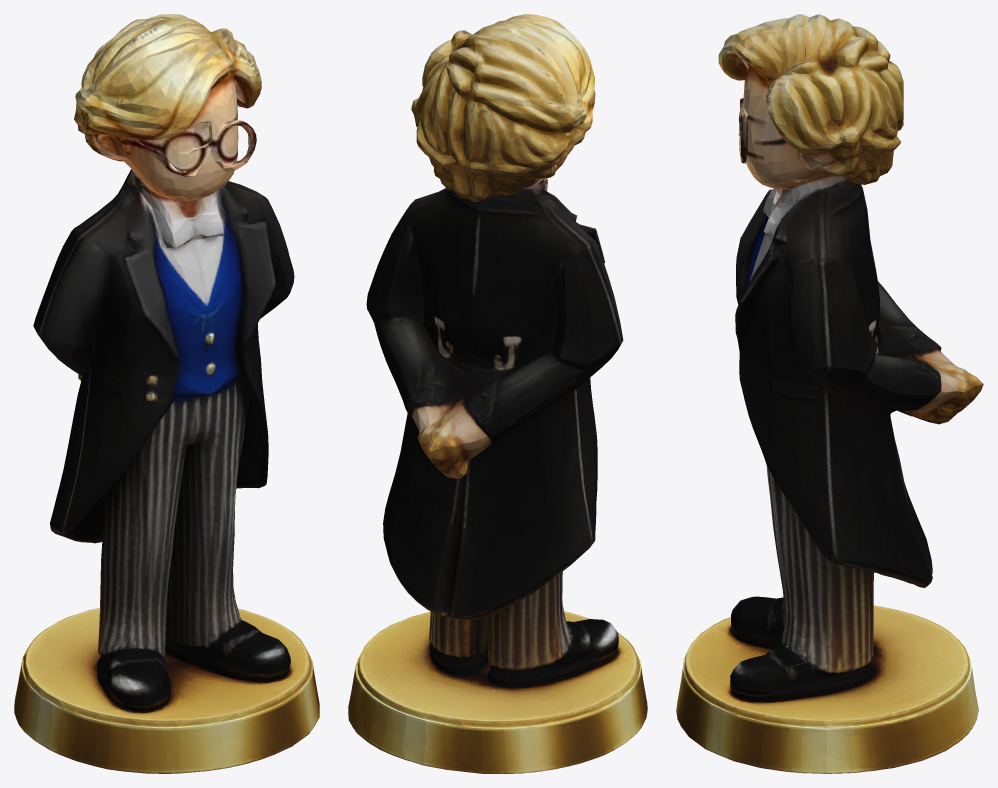
3 views of the same model, side by side, from view 1: azimuth 30°, elevation 25°; view 2: azimuth 150°, elevation 25°; view 3: azimuth 270°, elevation 25° (orthographic). The views are drawn at different scales.
Visible parts, largest first — view 1: world; view 2: world; view 3: world.
Part boxes in pixels (x1,y1,x2,y2): world: (14, 14, 319, 773); world: (348, 14, 647, 773); world: (676, 14, 983, 773).
Size of the model in its own units: 0.3995 by 1 by 0.405.
1 material, 1 textured.
